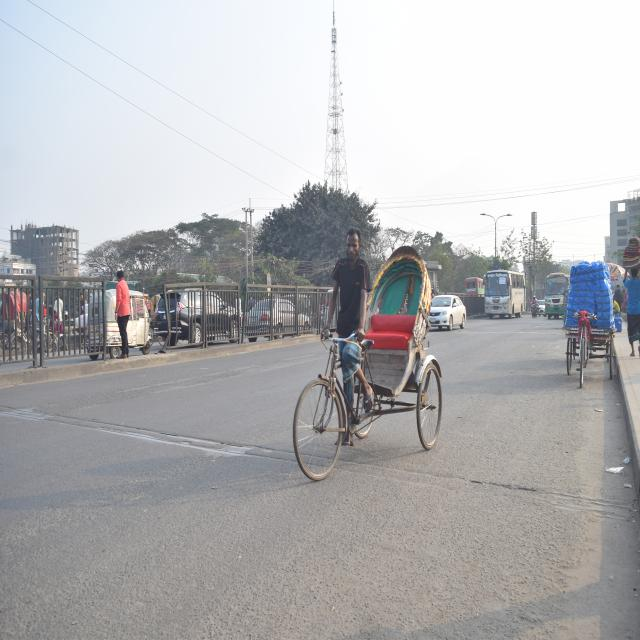bus: (482, 266, 526, 322), (544, 270, 572, 316)
car: (429, 286, 472, 338), (537, 299, 546, 315)
motorbike: (530, 300, 538, 320)
